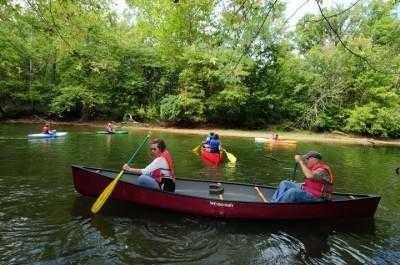kayak: (73, 165, 379, 225), (196, 144, 236, 166), (204, 135, 225, 163), (29, 131, 68, 140)
